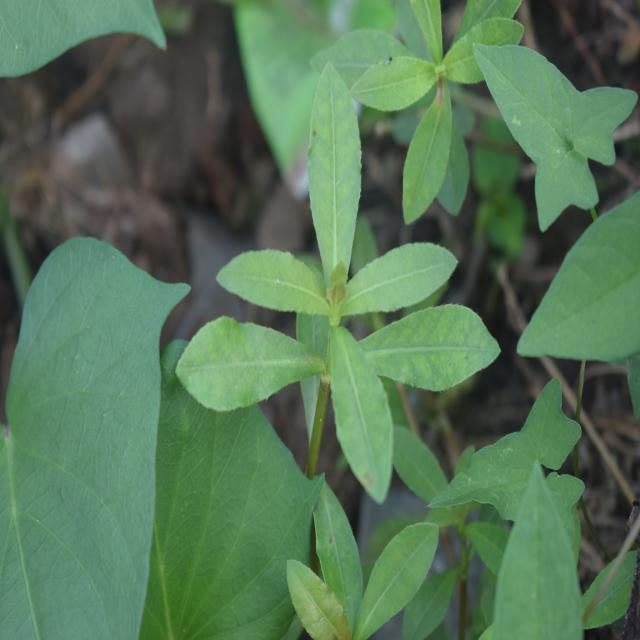Alligatorweed: (193, 59, 488, 496)
